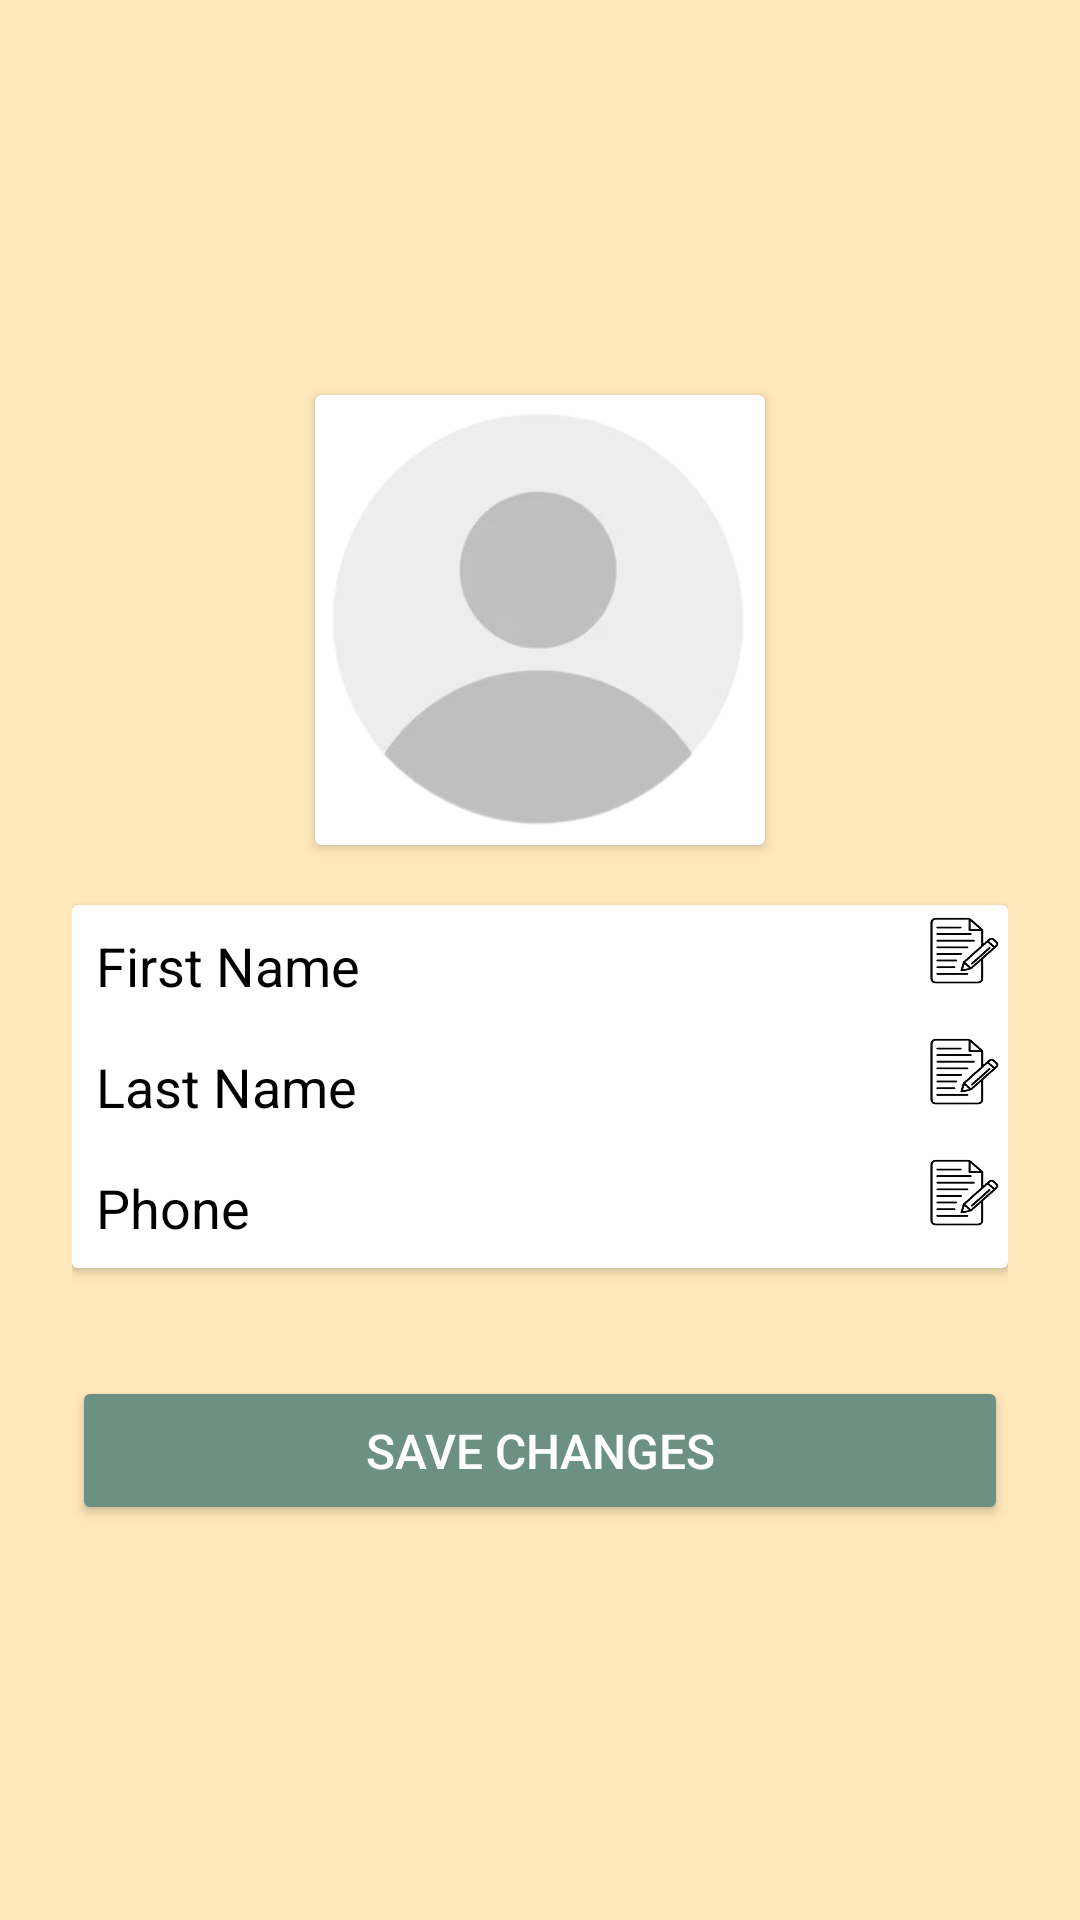

Screen size 1080×1920. Icon name, then its center in pixels as point (x, y):
Profile Picture: point (538, 657)
